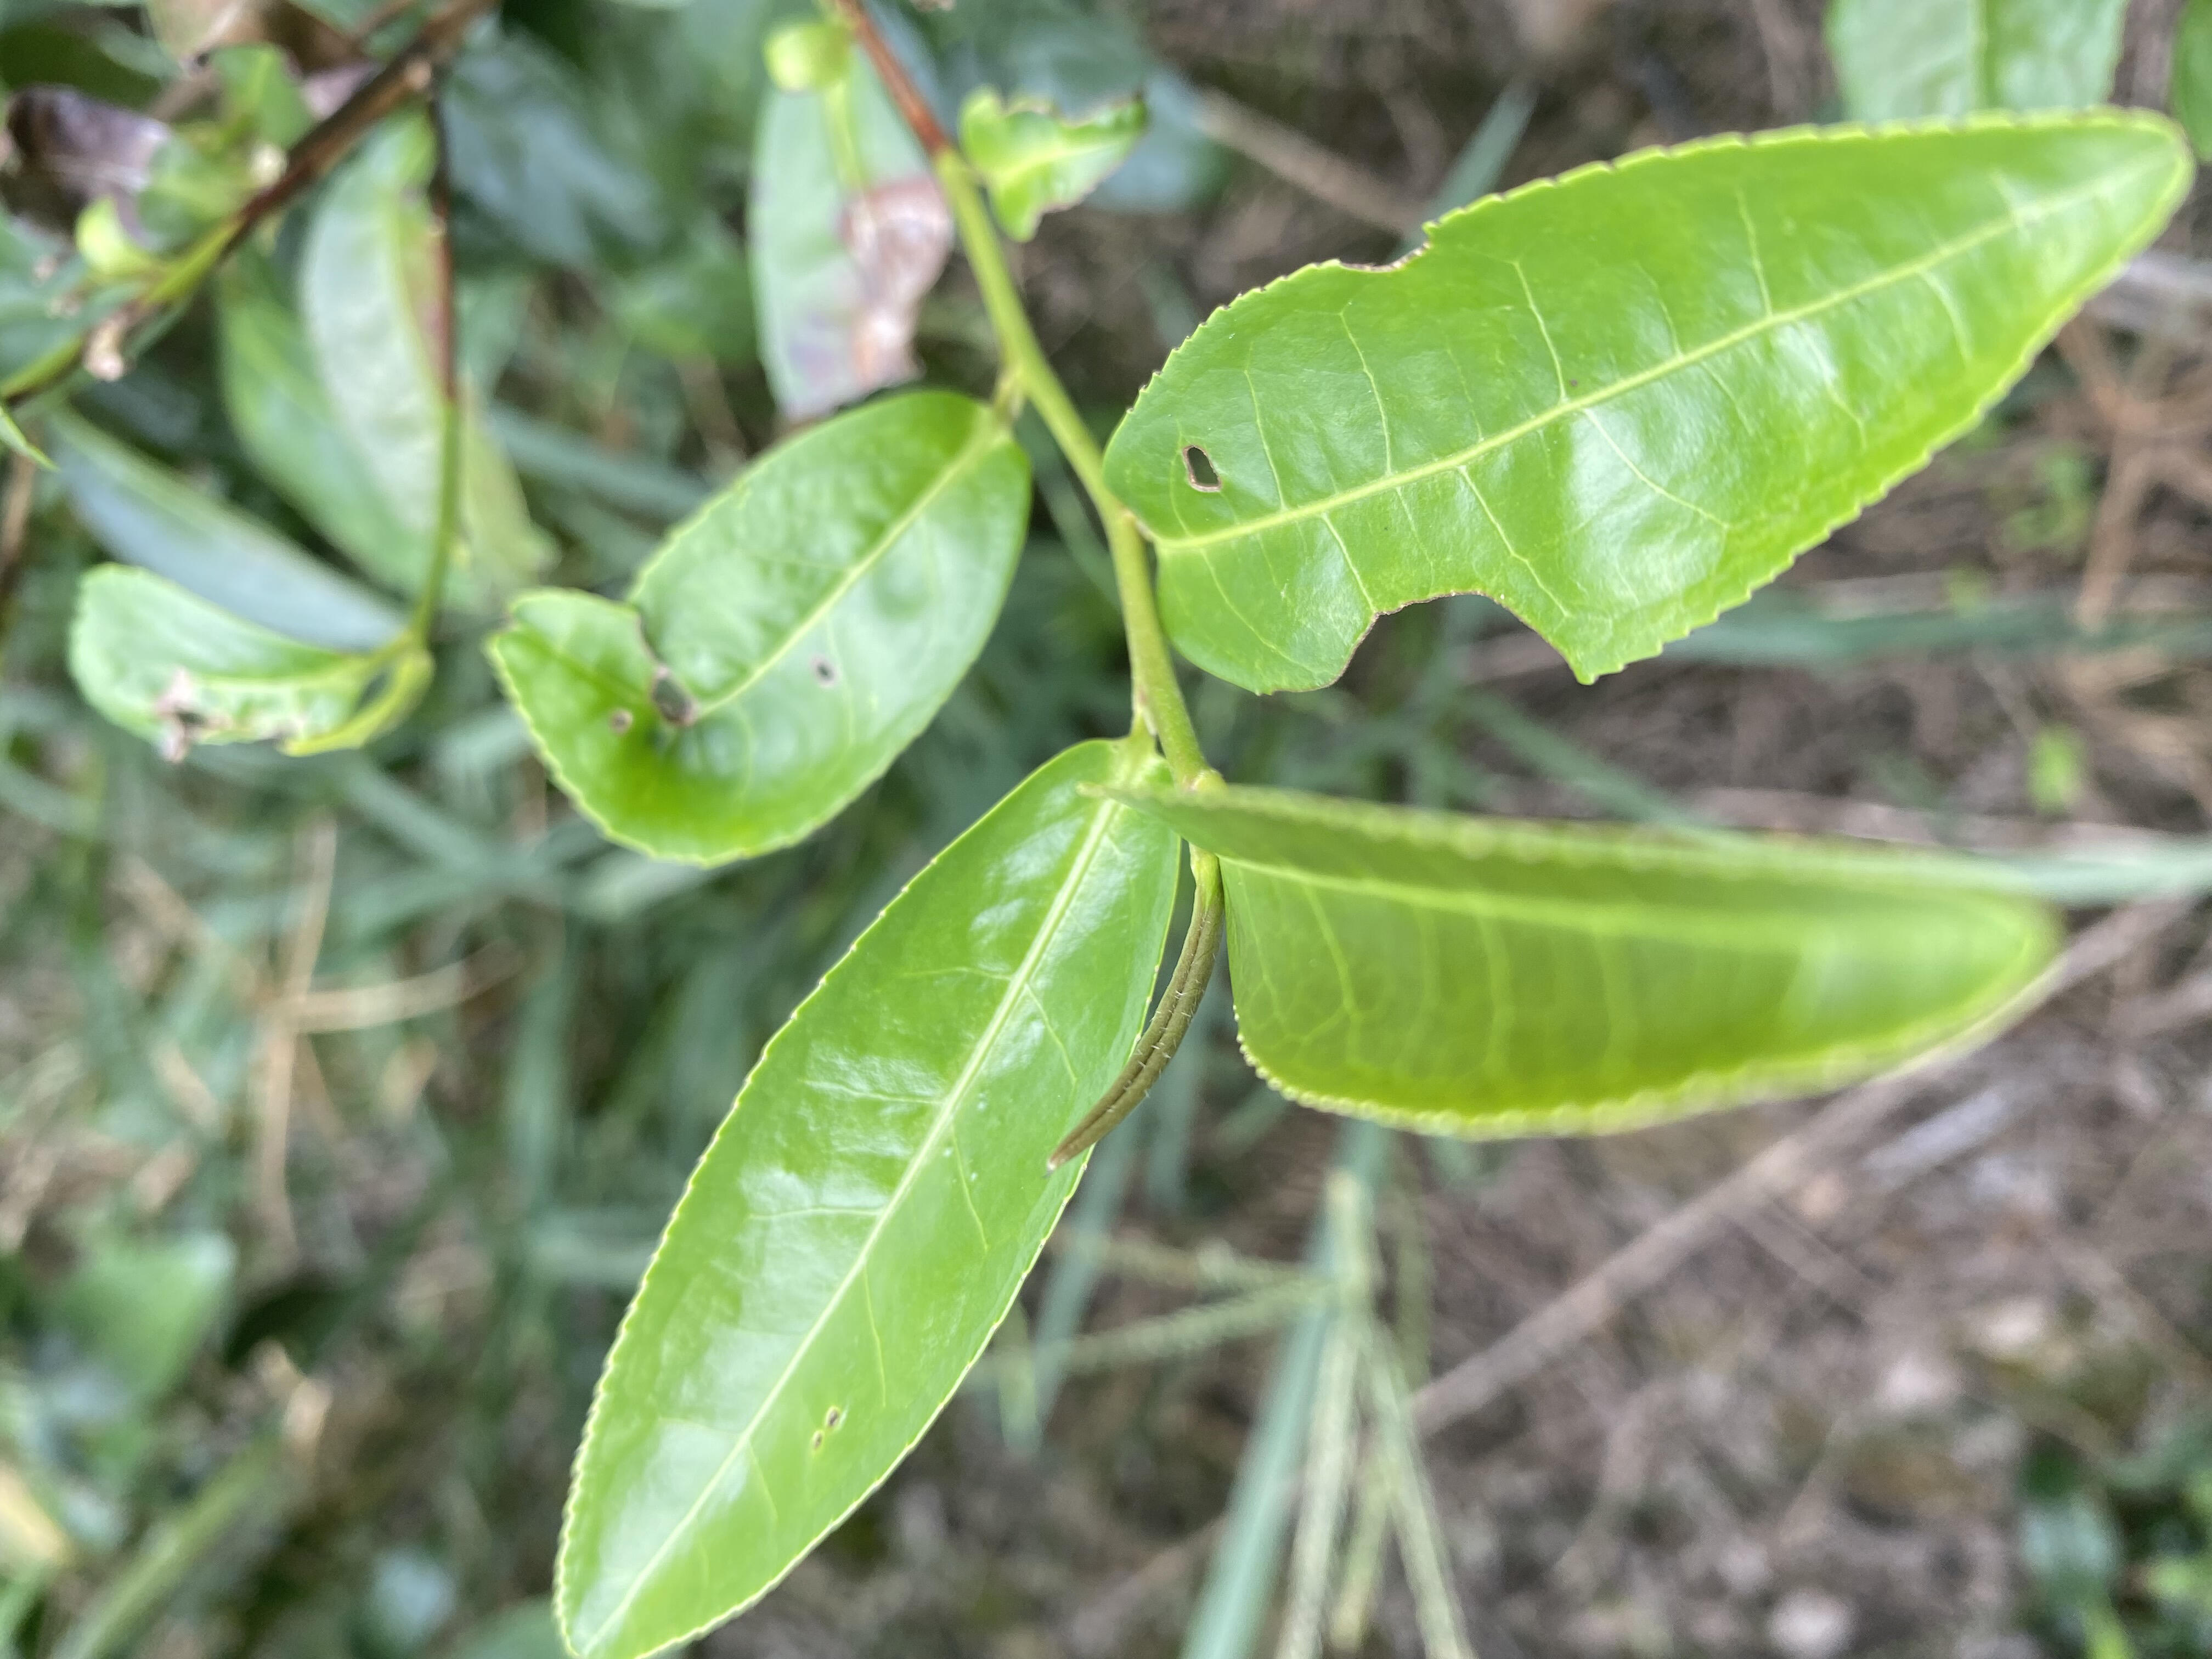chihuo_high: (1101, 112, 2195, 699)
healthy: (1080, 777, 2041, 1138)
tanju_low: (550, 735, 1183, 1659)
